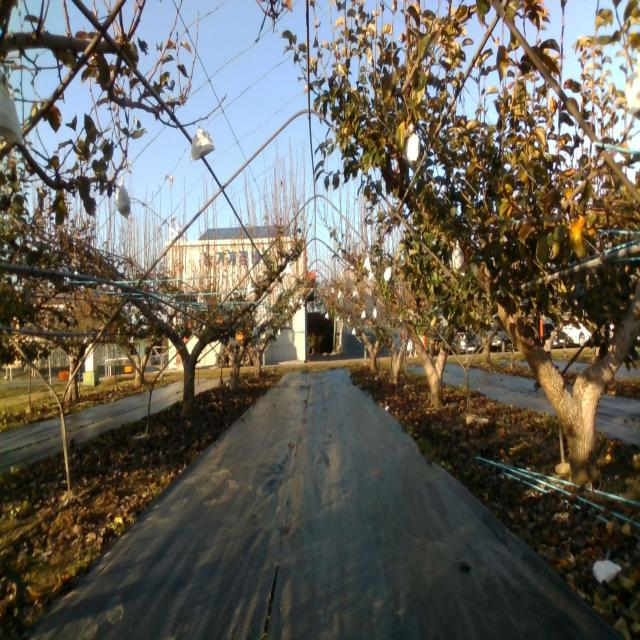pearbags: (623, 62, 640, 124), (189, 127, 215, 162), (115, 177, 131, 219), (405, 133, 420, 167), (451, 245, 464, 274)
